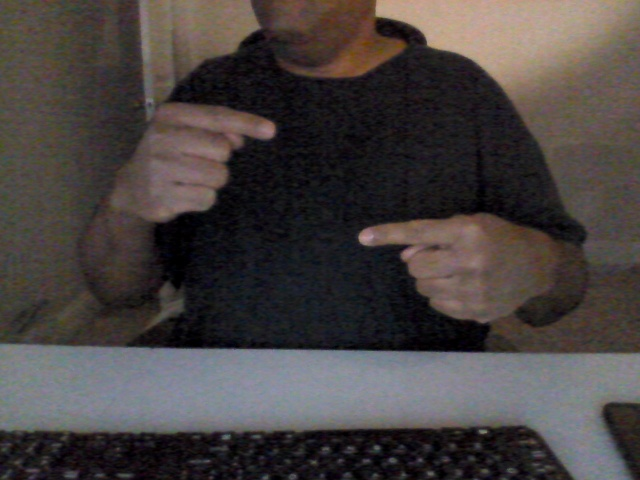go: (116, 97, 547, 325)
